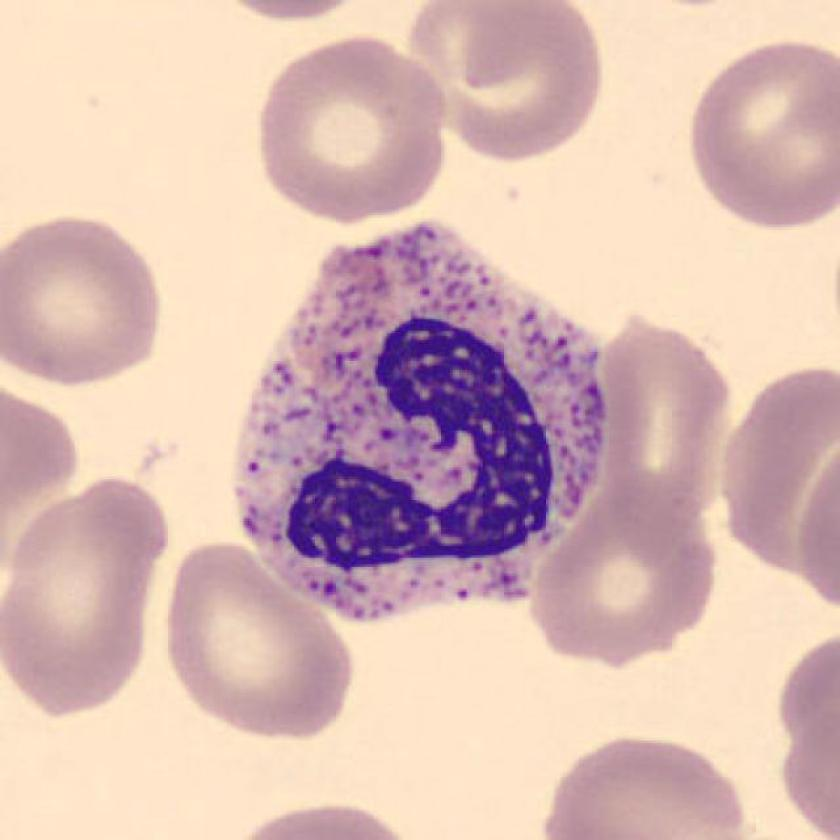neutrophil: (231, 219, 607, 620)
